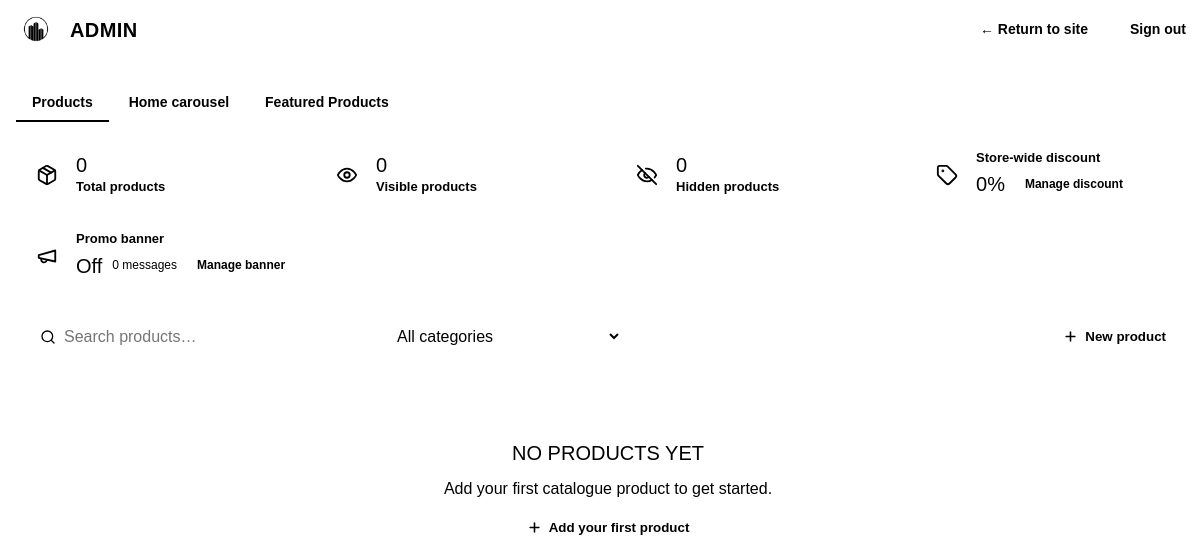
Scenario: AdminPage — signed in › swaps the panel when the Featured Products tab is chosen
Step 1. Click the tab "Featured Products" → {"x": 327, "y": 103}, box top-left (249, 84), bottom-right (405, 122)
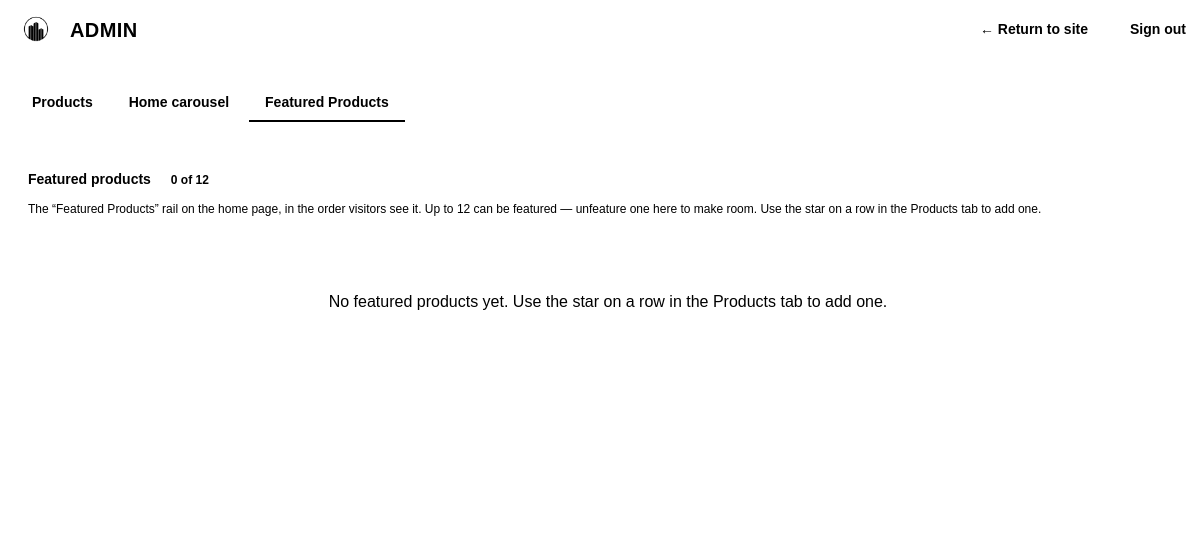
Now the text "The “Featured Products” rail on the home page" is shown, box top-left (28, 202), bottom-right (454, 216)
Now the button "New product" is gone
